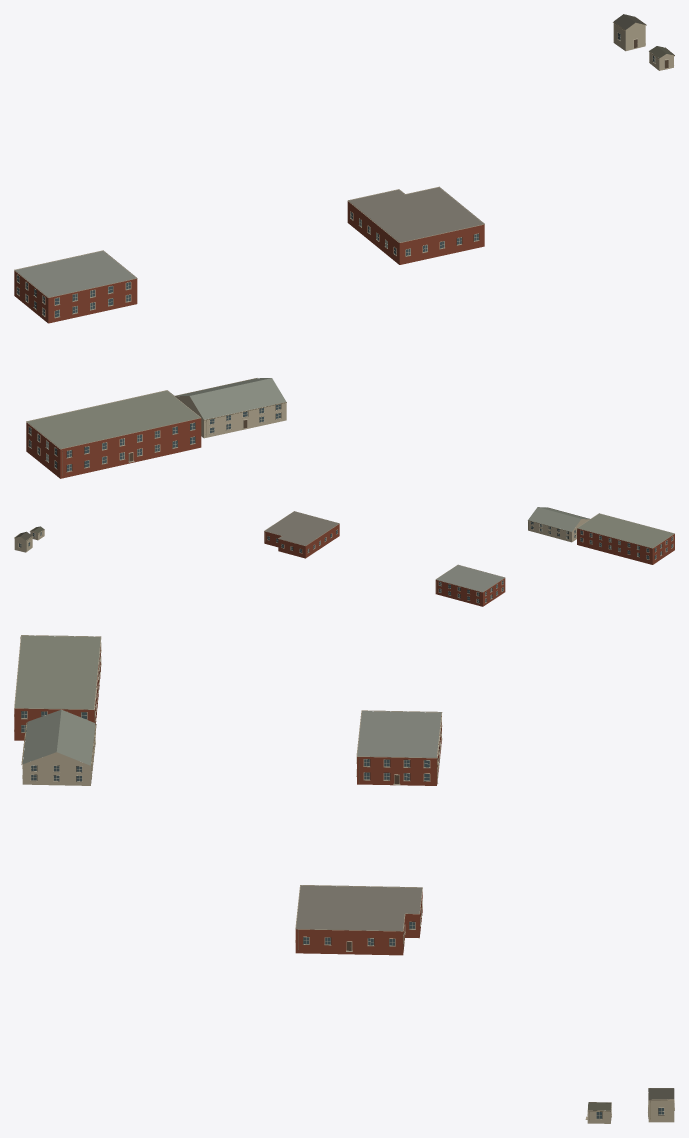
3 renders of one model, top to bottom at view 1: azimuth 30°, elevation 25°; view 2: azimuth 150°, elevation 25°; view 3: azimuth 270°, elevation 25°, orthographic. The views are drawn at different scales.
Parts seen in each view (by area): view 1: -4_-4_599928437_1, -4_-4_599929275_4; view 2: -4_-4_599928437_1, -4_-4_599929275_4; view 3: -4_-4_599928437_1, -4_-4_599929275_4.
Boxes of the visible parts, x1,y1,x2,y2 form: -4_-4_599928437_1: (14,14,674,478); -4_-4_599929275_4: (175,22,673,438); -4_-4_599928437_1: (14,507,674,606); -4_-4_599929275_4: (14,519,589,552); -4_-4_599928437_1: (14,635,674,1121); -4_-4_599929275_4: (22,724,674,1123).
Size of the model in its own units: 242 by 8.94 by 146.
